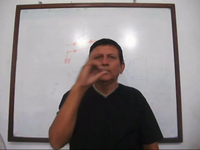oi: (80, 54, 107, 90)
